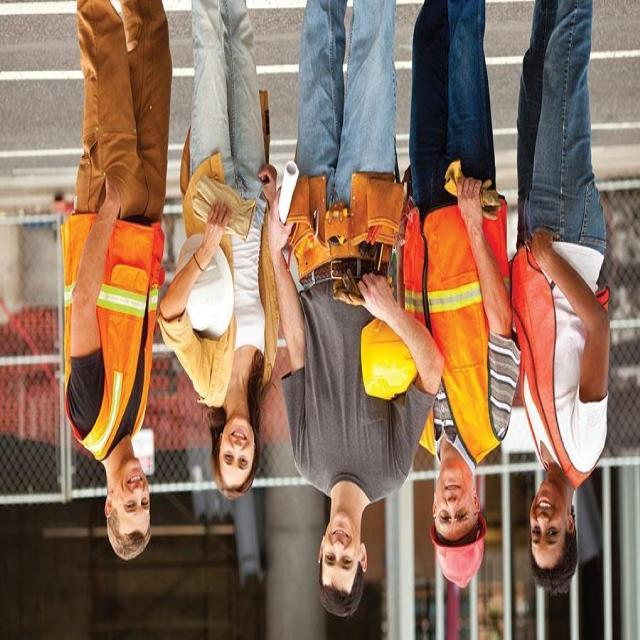helmet: (166, 232, 240, 338), (358, 314, 422, 402), (426, 520, 486, 594)
jacket: (403, 201, 509, 464), (50, 204, 162, 440), (516, 234, 616, 490)
